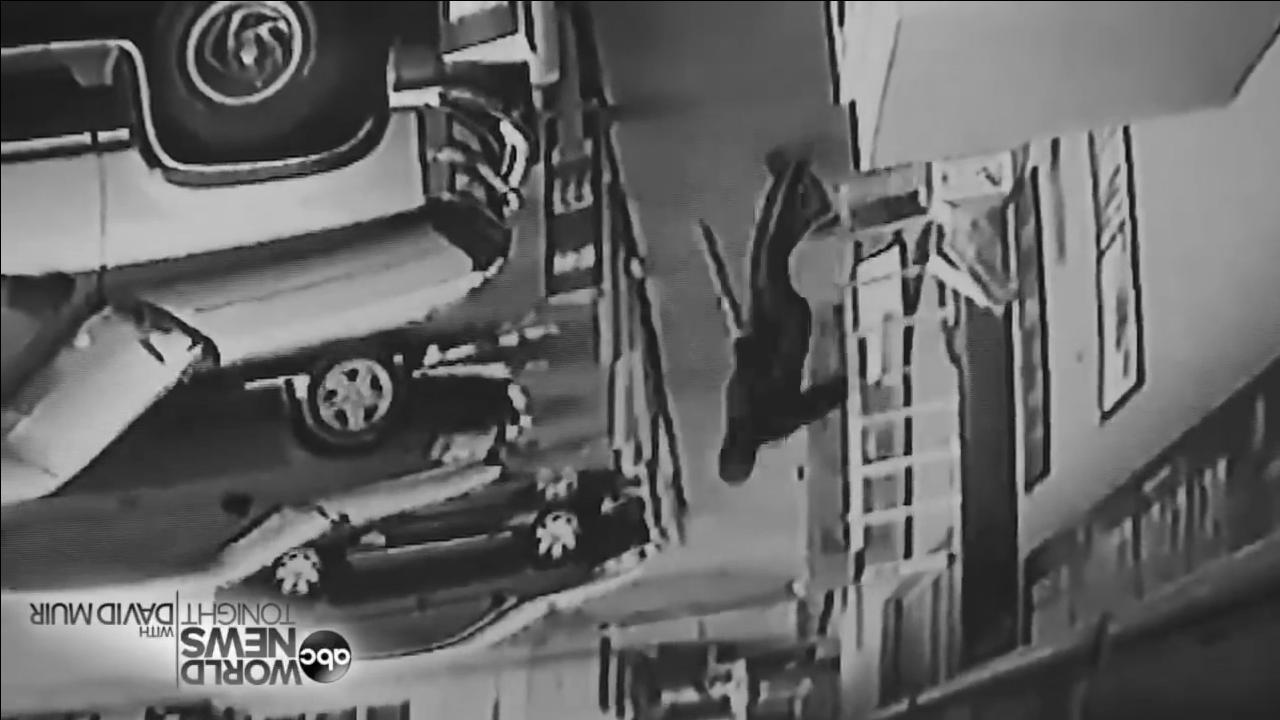gun: (696, 217, 746, 339)
